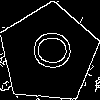O: (23, 29, 72, 71)
